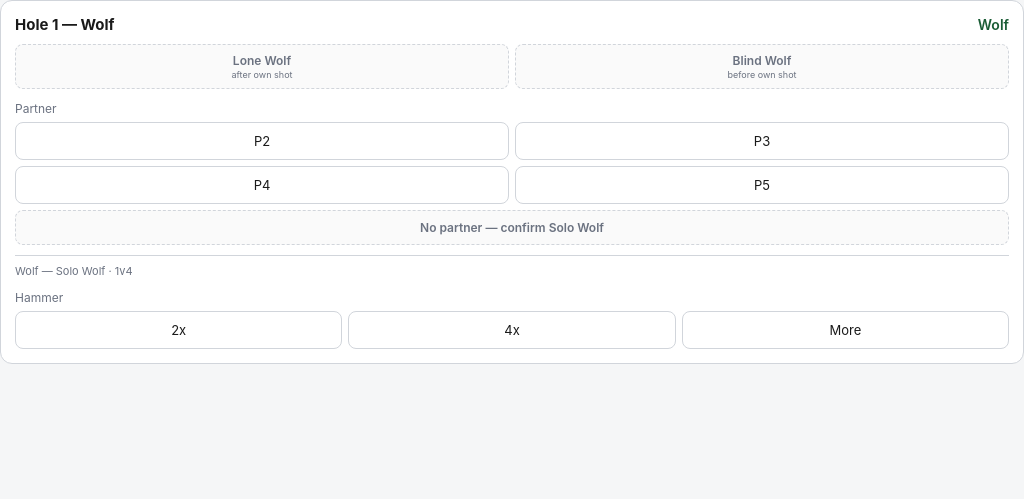
it: WolfHoleCard — Hammer entry › selecting Rejected reveals the concede buttons
The image size is (1024, 499).
Click the button "2x" at (179, 330), box top-left (15, 311), bottom-right (342, 349)
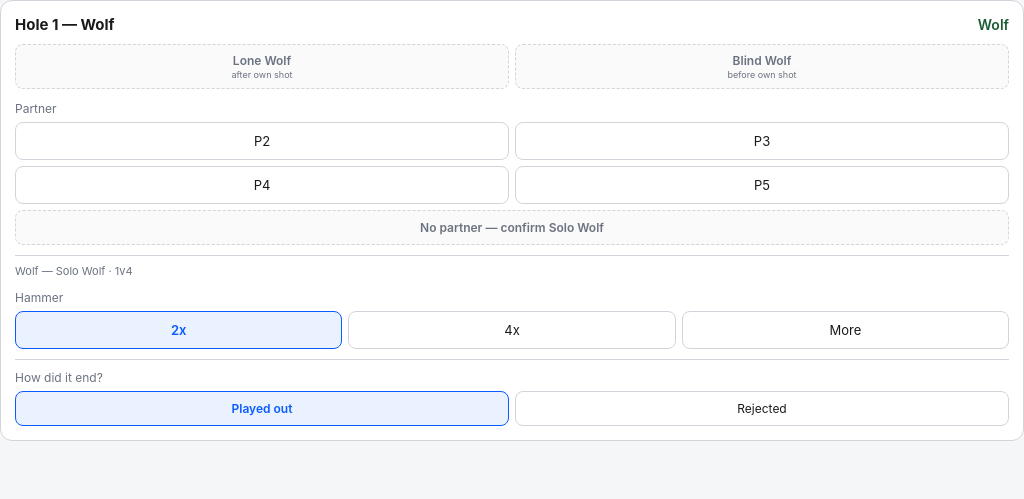
Click the button "Rejected" at (762, 408), box top-left (515, 391), bottom-right (1009, 426)
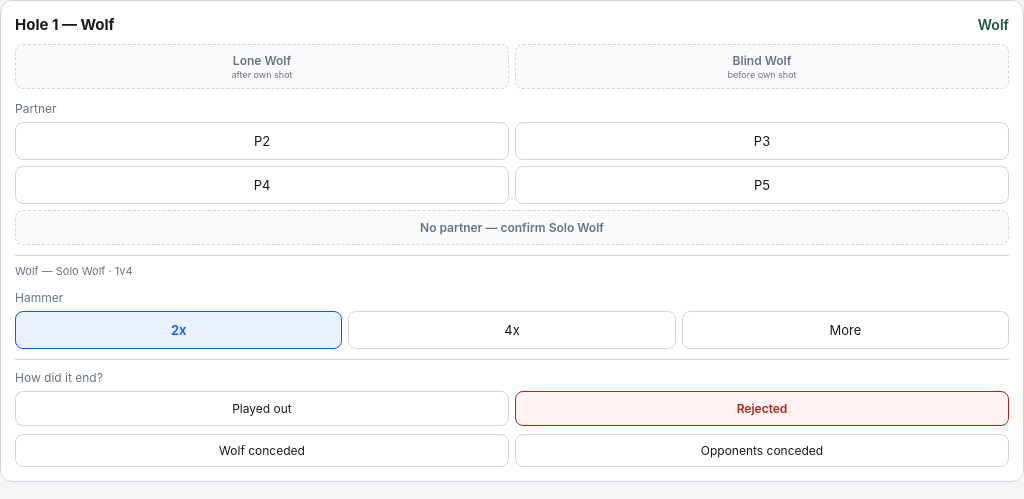
Expected: the button "Wolf conceded" is shown, top-left (15, 434), bottom-right (509, 467)
Expected: the button "Opponents conceded" is shown, top-left (515, 434), bottom-right (1009, 467)
